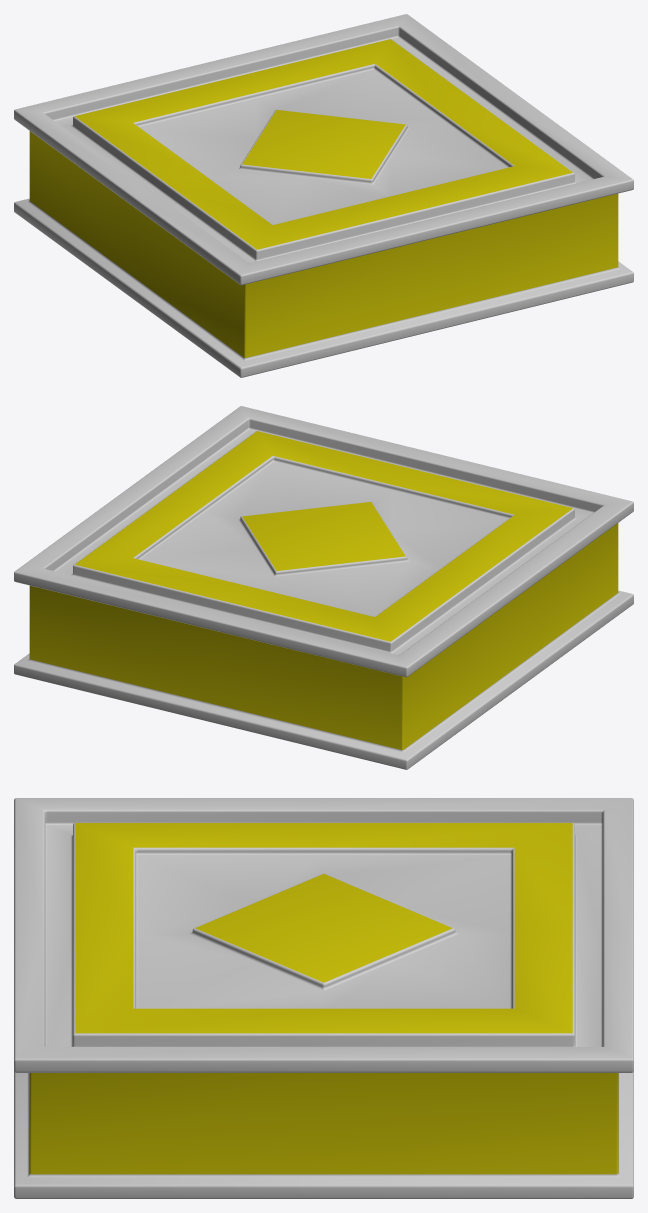
File: platform_yellow.fbx
3 renders of one model, top to bottom at view 1: azimuth 30°, elevation 25°; view 2: azimuth 150°, elevation 25°; view 3: azimuth 270°, elevation 25°, orthographic. The views are drawn at different scales.
Parts seen in each view (by area): view 1: Würfel_3; view 2: Würfel_3; view 3: Würfel_3.
Boxes of the visible parts, x1,y1,x2,y2 form: Würfel_3: (14, 14, 633, 377); Würfel_3: (14, 406, 633, 769); Würfel_3: (14, 798, 633, 1198).
Bounding box in the file's own units: 400 × 100 × 400.
